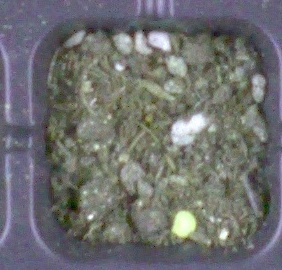chilli seed: (172, 210, 196, 238)
